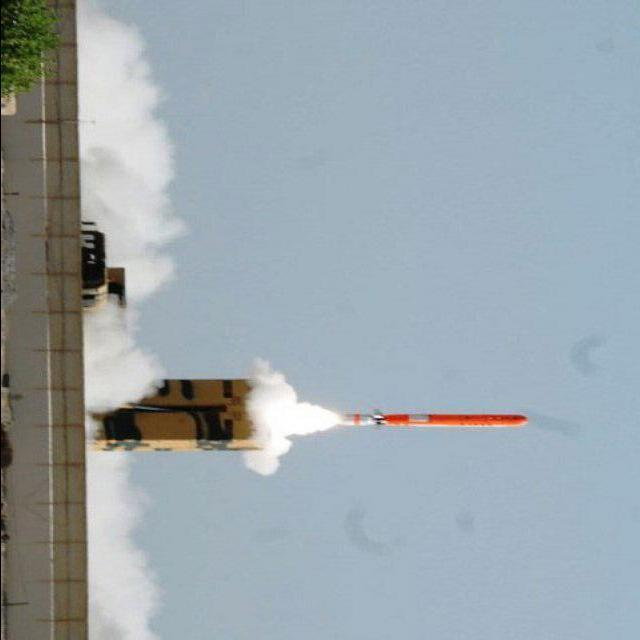missile: (357, 406, 543, 433)
